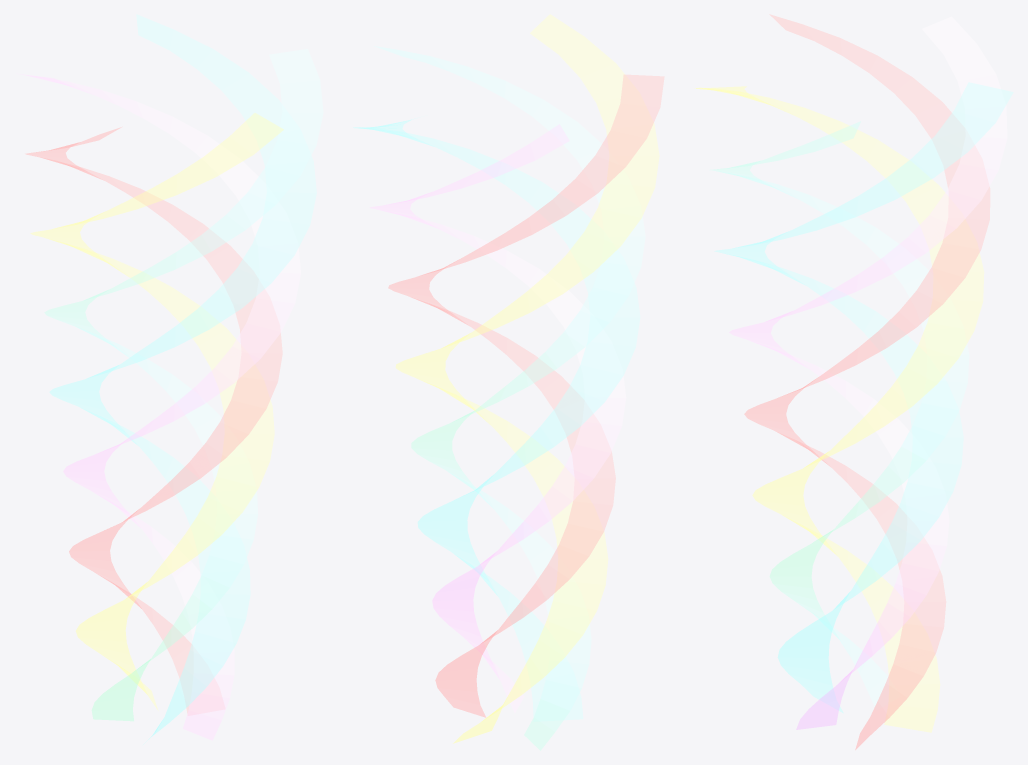
File: fx_rainbow_current.glb
The picture shows the model from 3 angles, left to right: view 1: azimuth 30°, elevation 25°; view 2: azimuth 150°, elevation 25°; view 3: azimuth 270°, elevation 25°; orthographic projection.
Visible parts, largest first — view 1: fx_rainbow_current_ray_c, fx_rainbow_current_ray_g, fx_rainbow_current_ray_v, fx_rainbow_current_ray_y, fx_rainbow_current_ray_r; view 2: fx_rainbow_current_ray_y, fx_rainbow_current_ray_g, fx_rainbow_current_ray_c, fx_rainbow_current_ray_r, fx_rainbow_current_ray_v; view 3: fx_rainbow_current_ray_y, fx_rainbow_current_ray_c, fx_rainbow_current_ray_r, fx_rainbow_current_ray_v, fx_rainbow_current_ray_g.
Boxes of the visible parts, box(x1,y1,x2,y2) form: fx_rainbow_current_ray_c: box(49, 14, 316, 744); fx_rainbow_current_ray_g: box(44, 49, 323, 721); fx_rainbow_current_ray_v: box(19, 74, 300, 740); fx_rainbow_current_ray_y: box(30, 113, 283, 709); fx_rainbow_current_ray_r: box(26, 127, 282, 715); fx_rainbow_current_ray_y: box(395, 14, 659, 743); fx_rainbow_current_ray_g: box(374, 46, 645, 750); fx_rainbow_current_ray_c: box(353, 118, 640, 721); fx_rainbow_current_ray_r: box(388, 74, 664, 717); fx_rainbow_current_ray_v: box(370, 124, 626, 712); fx_rainbow_current_ray_y: box(694, 86, 984, 732); fx_rainbow_current_ray_c: box(714, 82, 1013, 713); fx_rainbow_current_ray_r: box(744, 14, 990, 749); fx_rainbow_current_ray_v: box(729, 16, 1007, 729); fx_rainbow_current_ray_g: box(710, 121, 969, 709).
Bounding box in the file's own units: 5.25 × 12 × 5.34.
